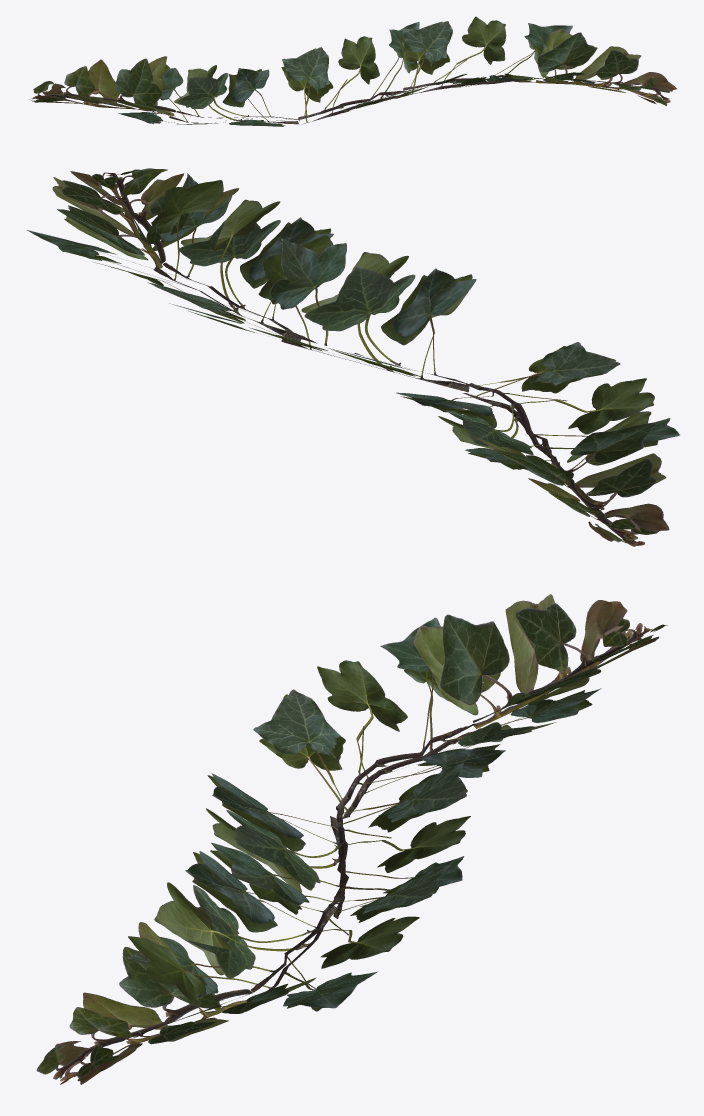
File: stumbletwine_04.fbx
3 renders of one model, top to bottom at view 1: azimuth 30°, elevation 25°; view 2: azimuth 150°, elevation 25°; view 3: azimuth 270°, elevation 25°, orthographic. The views are drawn at different scales.
Parts seen in each view (by area): view 1: stumbletwine_04; view 2: stumbletwine_04; view 3: stumbletwine_04.
Part boxes in pixels (<box>): stumbletwine_04: <box>30,16,676,126</box>; stumbletwine_04: <box>27,168,679,546</box>; stumbletwine_04: <box>36,594,667,1084</box>.
Size of the model in its own units: 49.62 by 84.07 by 7.1.
